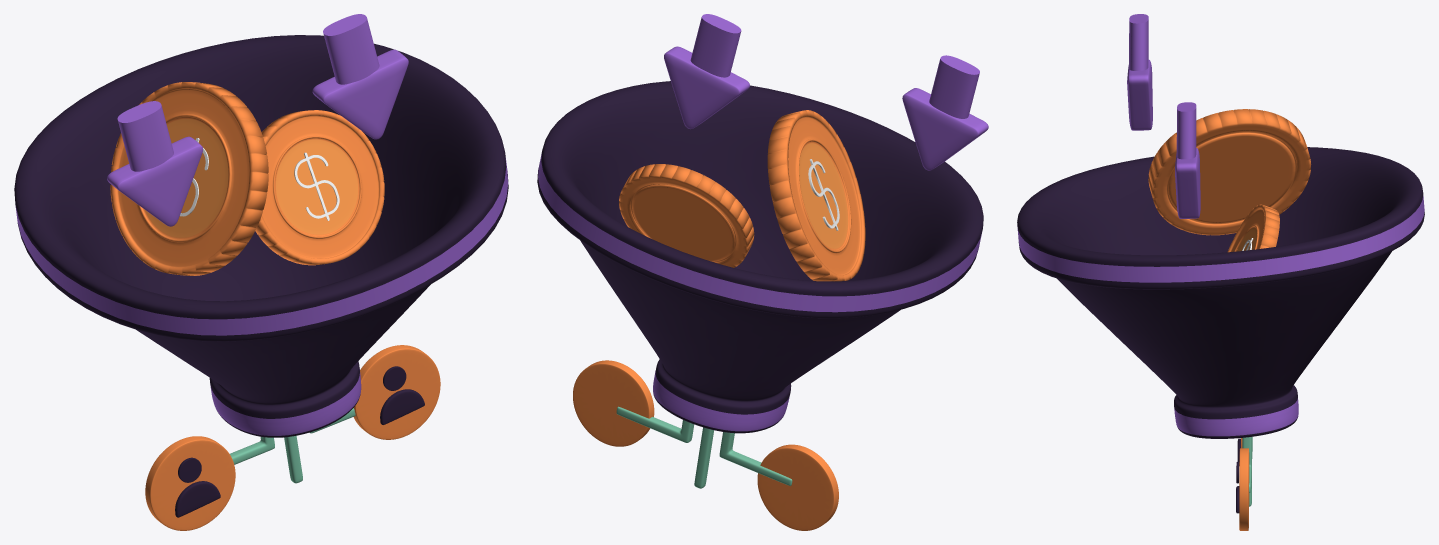
The model's file is sales-funnel-3d-animated-icon-468185100353.glb.
3 views of the same model, side by side, from view 1: azimuth 30°, elevation 25°; view 2: azimuth 150°, elevation 25°; view 3: azimuth 270°, elevation 25° (orthographic). The views are drawn at different scales.
Parts seen in each view (by area): view 1: Funnel, Cylinder.006, Cylinder.009, Cylinder.004, Cylinder.002, Cylinder, Cylinder.005, Cube.005; view 2: Funnel, Cylinder.006, Cylinder.009, Cylinder.004, Cylinder.002, Cylinder, Cylinder.005, Cube.005; view 3: Funnel, Cylinder.006, Cylinder.002, Cylinder.004, Cylinder.009, Cylinder.005.
Part boxes in pixels (x1,y1,x2,y2): Funnel: [14, 35, 508, 437]; Cylinder.006: [110, 82, 268, 275]; Cylinder.009: [255, 110, 384, 265]; Cylinder.004: [107, 101, 202, 226]; Cylinder.002: [312, 14, 408, 139]; Cylinder: [145, 436, 235, 530]; Cylinder.005: [353, 345, 440, 439]; Cube.005: [230, 408, 355, 483]; Funnel: [537, 81, 983, 433]; Cylinder.006: [767, 110, 865, 281]; Cylinder.009: [619, 164, 754, 267]; Cylinder.004: [902, 55, 988, 170]; Cylinder.002: [664, 14, 749, 128]; Cylinder: [757, 444, 838, 530]; Cylinder.005: [573, 360, 654, 446]; Cube.005: [616, 406, 792, 488]; Funnel: [1017, 147, 1424, 438]; Cylinder.006: [1148, 109, 1311, 235]; Cylinder.002: [1175, 102, 1200, 218]; Cylinder.004: [1127, 14, 1152, 130]; Cylinder.009: [1227, 204, 1279, 252]; Cylinder.005: [1236, 448, 1249, 530].
Size of what is drawn, in the model's own units: 1.43 by 1.66 by 1.44.
